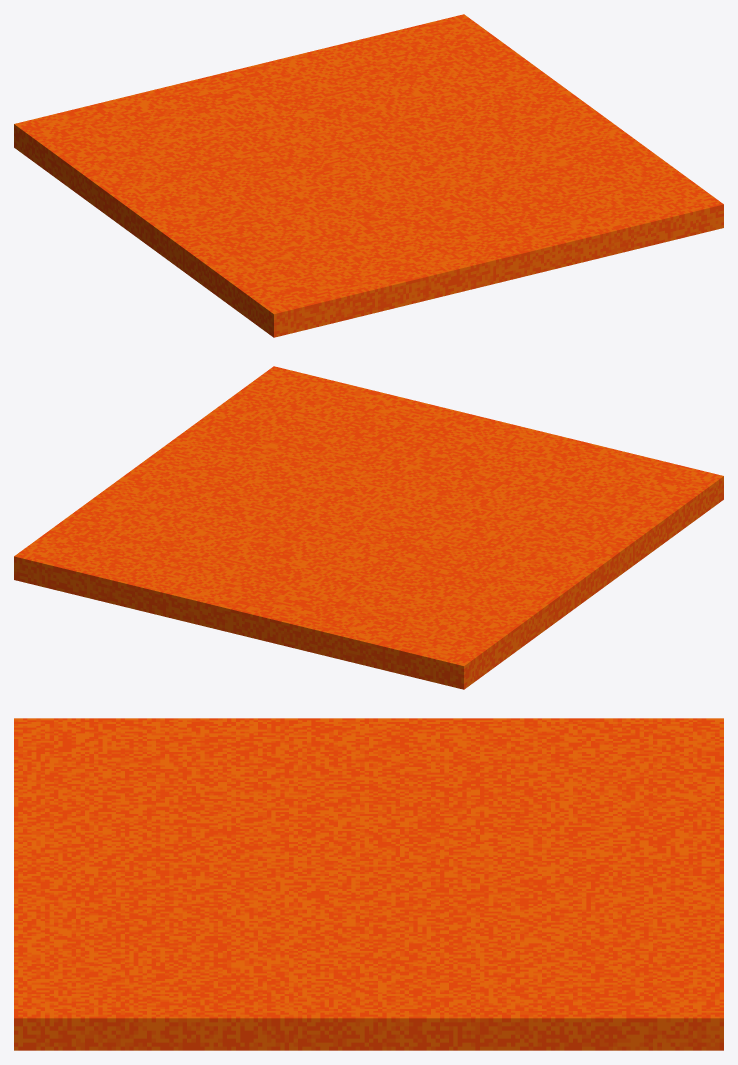
Rendered from Lava3D.obj.
3 renders of one model, top to bottom at view 1: azimuth 30°, elevation 25°; view 2: azimuth 150°, elevation 25°; view 3: azimuth 270°, elevation 25°, orthographic. The views are drawn at different scales.
Bounding box in the file's own units: 16 × 0.8 × 16.
1 material, 1 textured.
